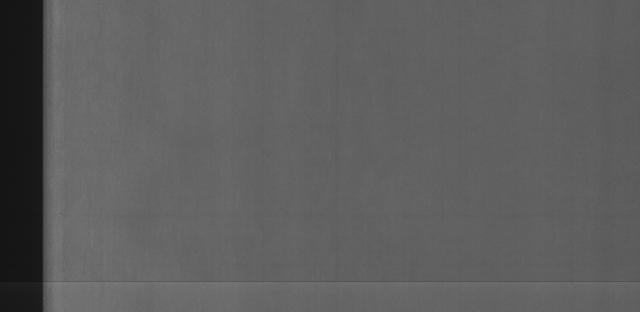welding_line: (40, 271, 640, 293)
